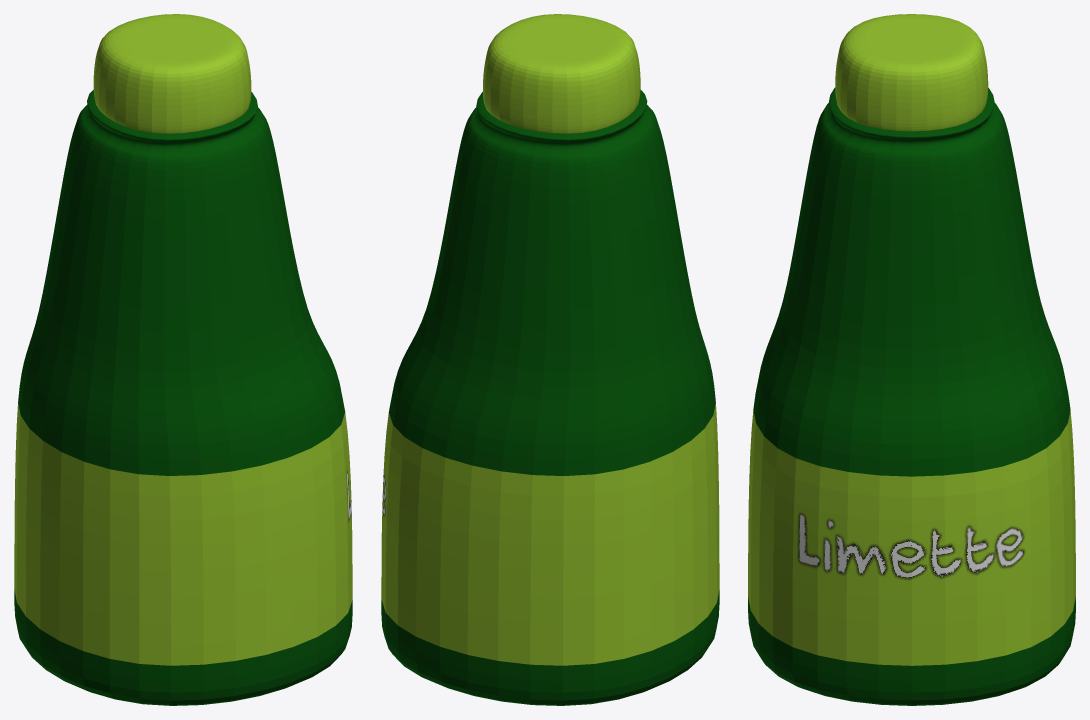
Rendered from Limettensaft.fbx.
The picture shows the model from 3 angles, left to right: view 1: azimuth 30°, elevation 25°; view 2: azimuth 150°, elevation 25°; view 3: azimuth 270°, elevation 25°; orthographic projection.
Parts seen in each view (by area): view 1: Zitronensaft, Zitronensaft_open; view 2: Zitronensaft, Zitronensaft_open; view 3: Zitronensaft, Zitronensaft_open.
Part boxes in pixels (left/top/right/bottom): Zitronensaft: left=14, top=14, right=352, bottom=705; Zitronensaft_open: left=89, top=91, right=255, bottom=137; Zitronensaft: left=381, top=14, right=719, bottom=705; Zitronensaft_open: left=478, top=90, right=645, bottom=137; Zitronensaft: left=748, top=14, right=1075, bottom=705; Zitronensaft_open: left=830, top=89, right=992, bottom=135.
Bounding box in the file's own units: 135 × 274 × 135.
Materials: 2 (1 with a texture image).
